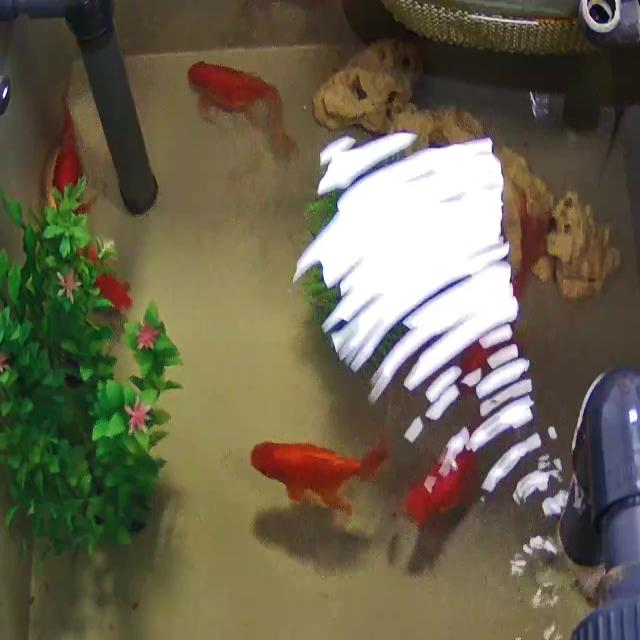fish: (187, 62, 297, 163), (252, 439, 366, 520), (407, 441, 484, 536), (48, 96, 88, 209), (77, 241, 132, 312), (455, 335, 501, 390)
